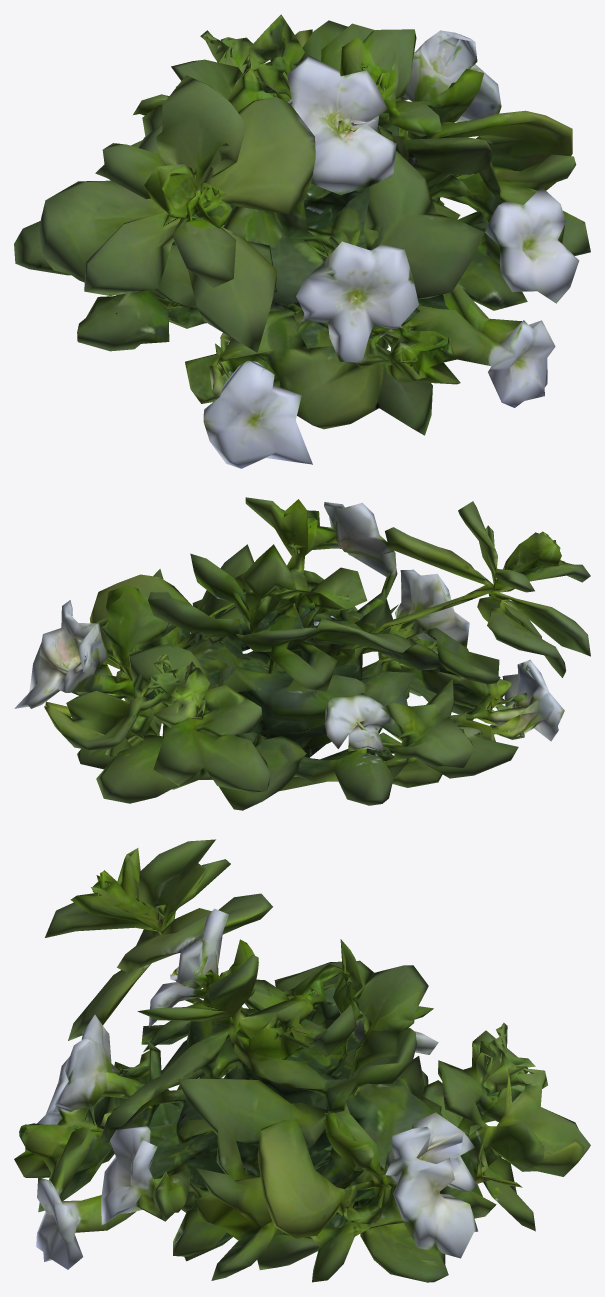
The model's file is brahmi_compressed.glb.
The picture shows the model from 3 angles, top to bottom: view 1: azimuth 30°, elevation 25°; view 2: azimuth 150°, elevation 25°; view 3: azimuth 270°, elevation 25°; orthographic projection. The views are drawn at different scales.
Parts seen in each view (by area): view 1: Object_4; view 2: Object_4; view 3: Object_4.
Boxes of the visible parts, left/top/right/bottom form: Object_4: left=14, top=14, right=590, bottom=468; Object_4: left=14, top=497, right=590, bottom=810; Object_4: left=14, top=839, right=590, bottom=1282.
Size of the model in its own units: 2.01 by 1.16 by 1.92.
1 material, 1 textured.
